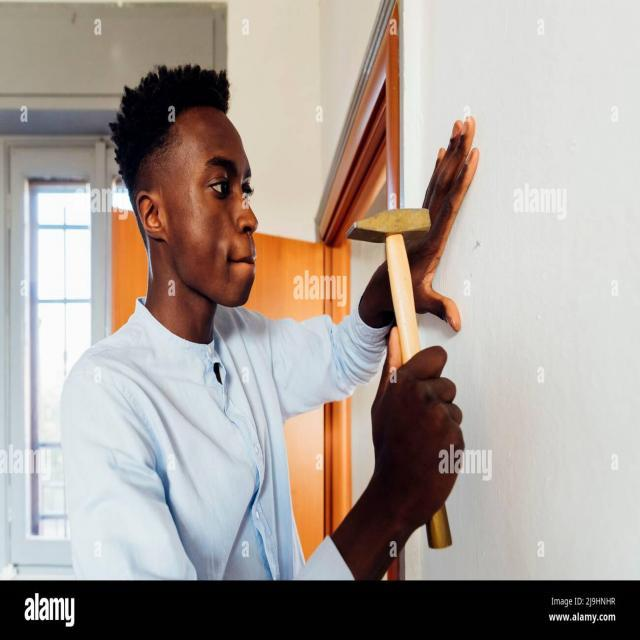hammer: (338, 194, 459, 556)
